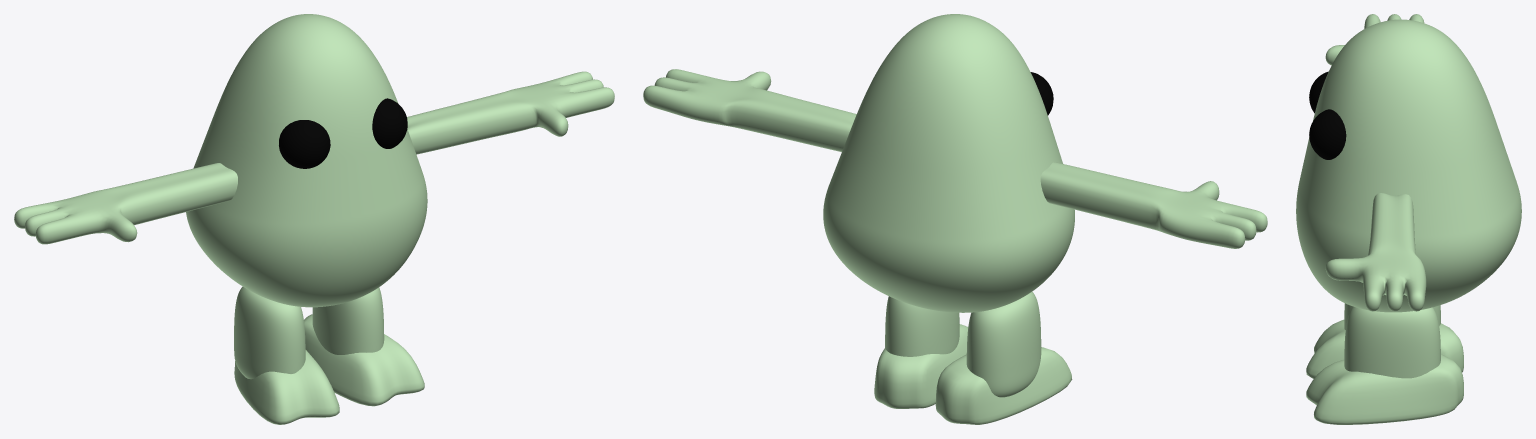
File: Greendroid.fbx
3 views of the same model, side by side, from view 1: azimuth 30°, elevation 25°; view 2: azimuth 150°, elevation 25°; view 3: azimuth 270°, elevation 25° (orthographic). The views are drawn at different scales.
Visible parts, largest first — view 1: Cheesemite; view 2: Cheesemite; view 3: Cheesemite.
Boxes of the visible parts, box(x1,y1,x2,y2) form: Cheesemite: box(14, 14, 614, 424); Cheesemite: box(643, 14, 1267, 424); Cheesemite: box(1296, 14, 1521, 424).
Size of the model in its own units: 924 by 553 by 310.
